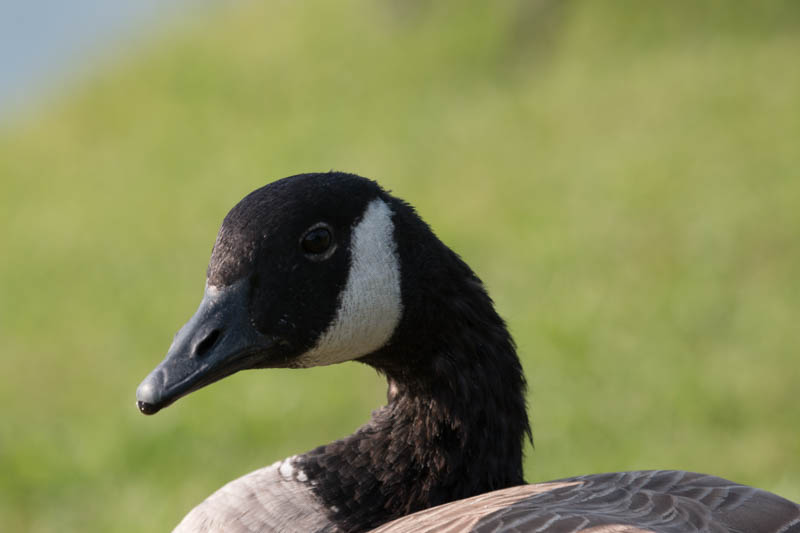goose-head: (133, 171, 442, 417)
